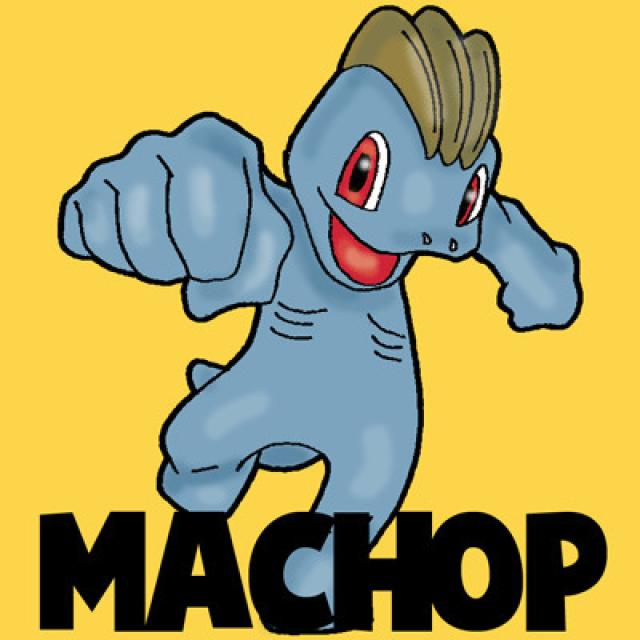Machop: (103, 0, 560, 492)
